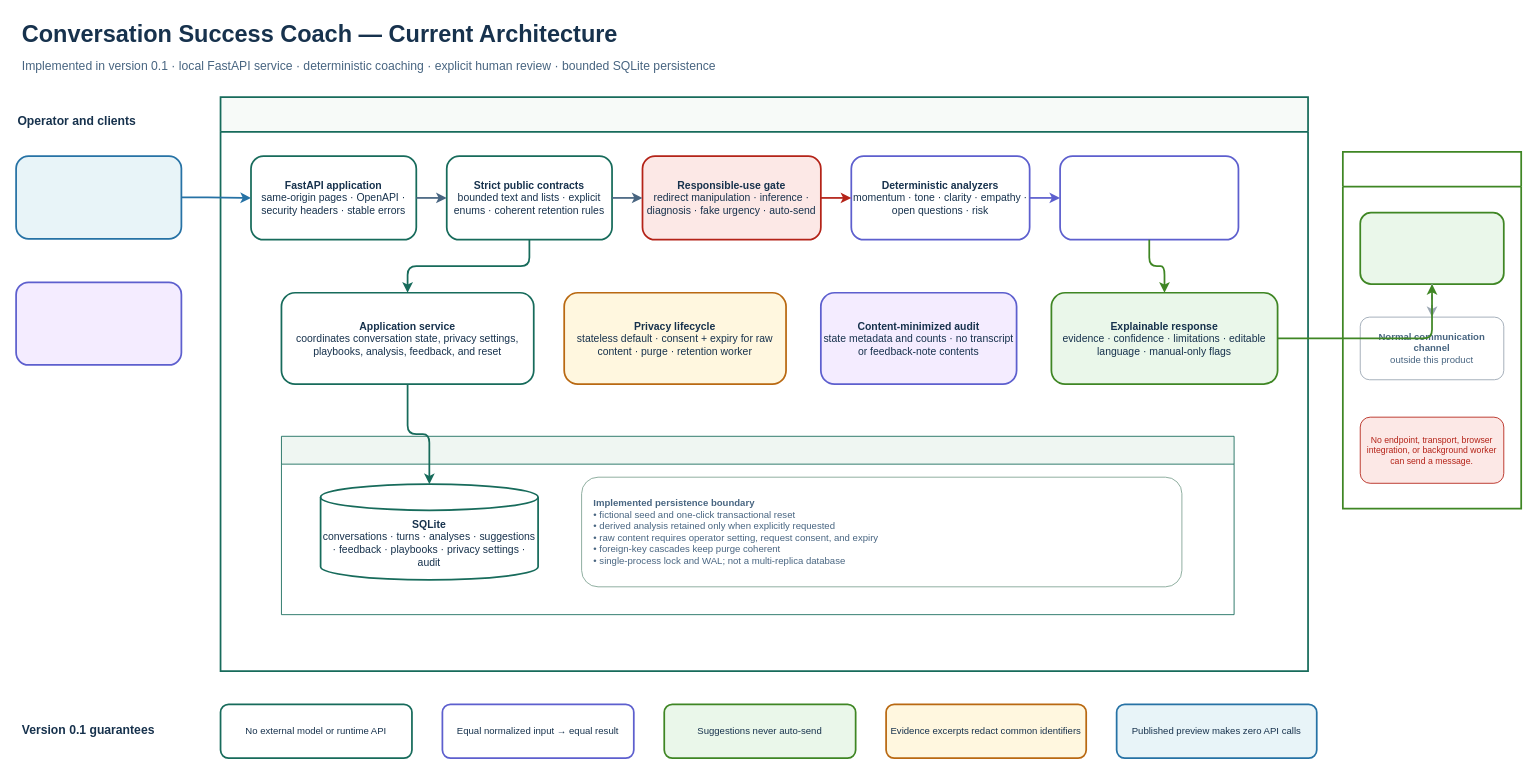
Some shapes in this 1536 by 773 pixel diagram are drawn without their labels. The box of each missing label's shape, as (x1, y1, x2, y2) in pixels:
Browser experience landing · dashboard · architecture · guided demo: (15, 155, 182, 239)
Conversation Success Coach · one local application process: (219, 96, 1308, 672)
Human decision boundary: (1342, 151, 1522, 509)
Local API client explicit mode · ordered turns · data-handling controls: (15, 281, 182, 365)
Local evidence store: (281, 435, 1234, 615)
Mode adapter sales · support · recruiting · community next-step patterns: (1059, 155, 1239, 240)
Operator review inspect · edit · accept · reject · ignore: (1359, 211, 1504, 284)
